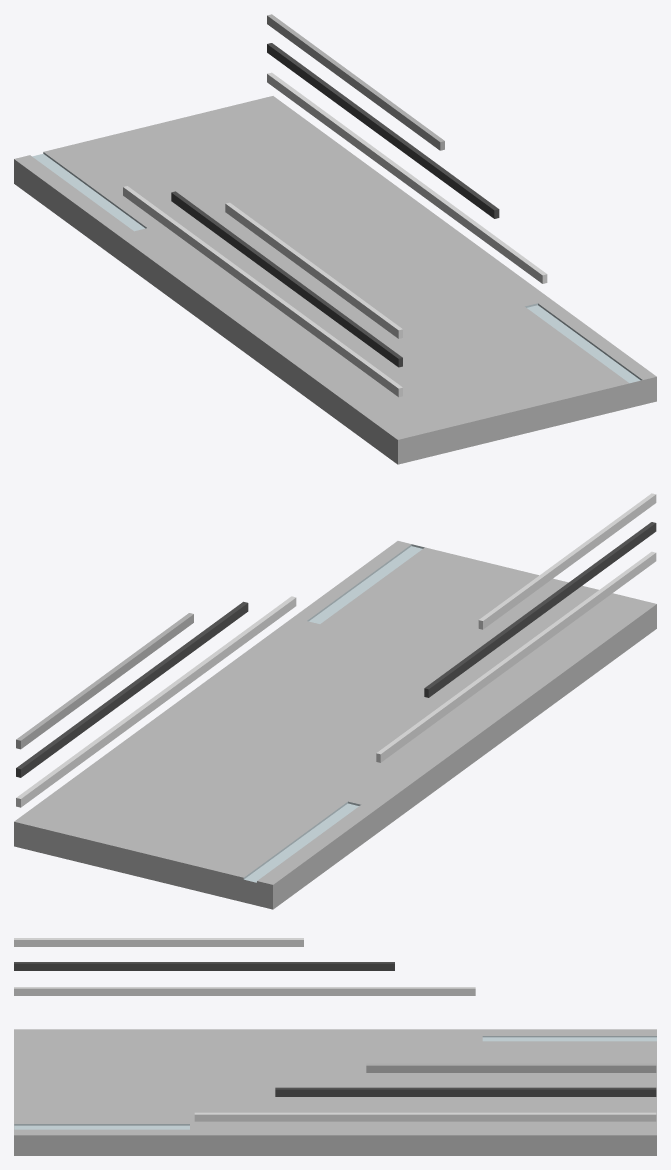
The model's file is 简单道路.fbx.
The picture shows the model from 3 angles, top to bottom: view 1: azimuth 30°, elevation 25°; view 2: azimuth 150°, elevation 25°; view 3: azimuth 270°, elevation 25°; orthographic projection. The views are drawn at different scales.
Parts seen in each view (by area): view 1: pCube12; view 2: pCube12; view 3: pCube12.
Part boxes in pixels (left/top/right/bottom): pCube12: left=14, top=14, right=656, bottom=464; pCube12: left=14, top=493, right=656, bottom=909; pCube12: left=14, top=938, right=656, bottom=1155.
Bounding box in the file's own units: 9.5 × 4.7 × 24.36.
